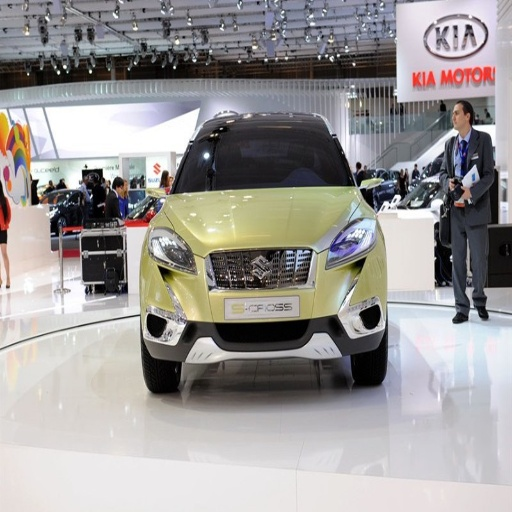front_bumper: (143, 242, 386, 365)
front_right_light: (147, 228, 195, 271)
hood: (163, 186, 365, 251)
